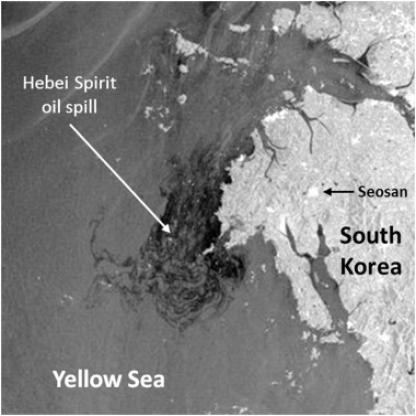oil: (83, 156, 256, 328)
